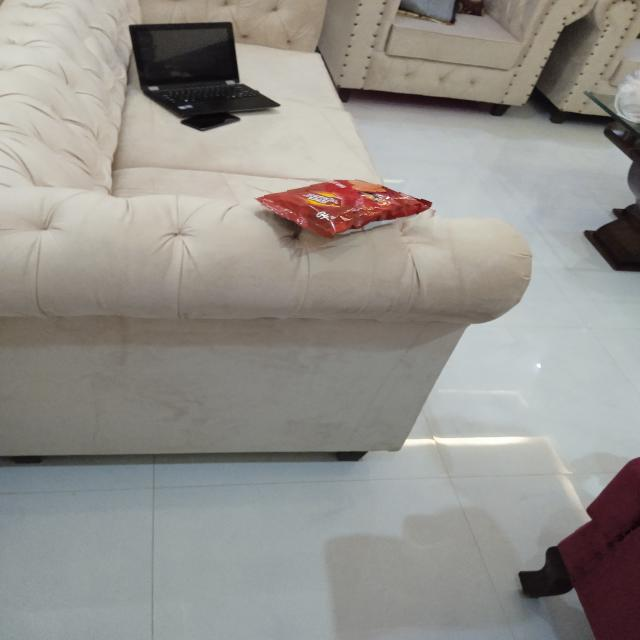Plastic: (254, 178, 439, 250)
